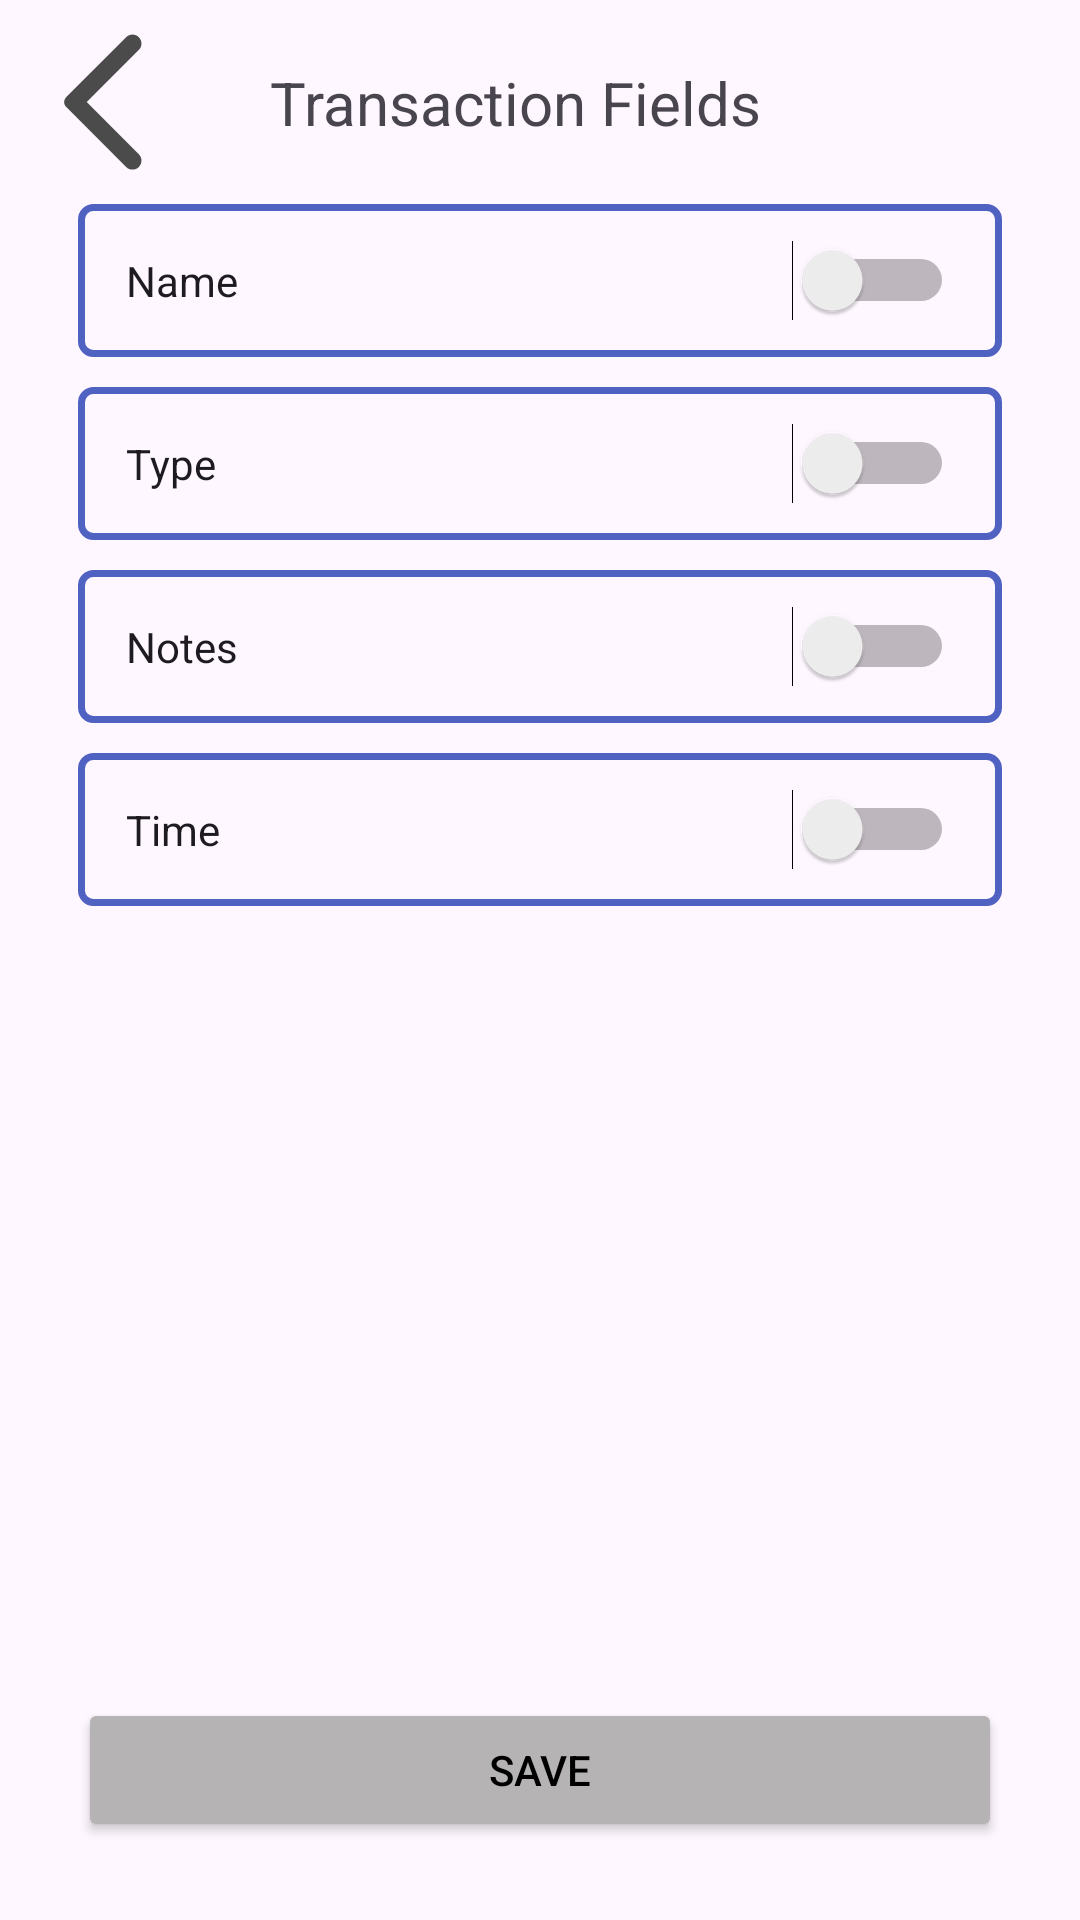

Where to tap for icons on this 1080px x 1920px app screen, as [x,y]:
back: [103,102]
